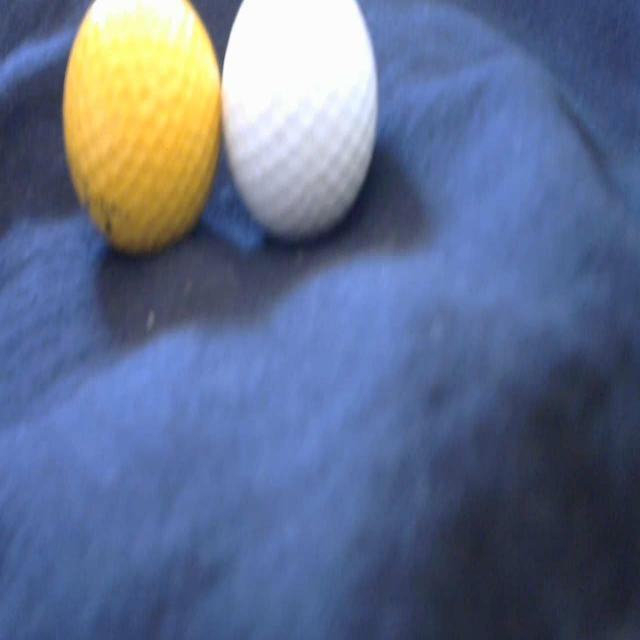golfball: (56, 0, 222, 257), (221, 0, 384, 250)
